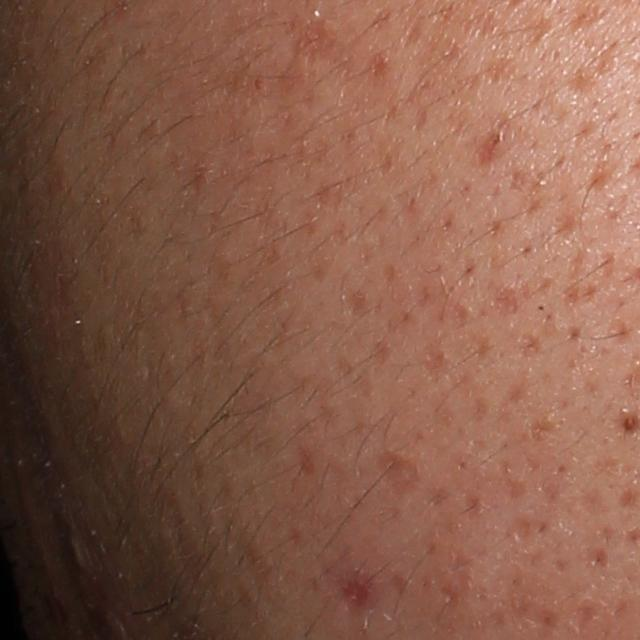atrophic_scar: (330, 569, 377, 615), (373, 447, 422, 489), (506, 508, 540, 552)
